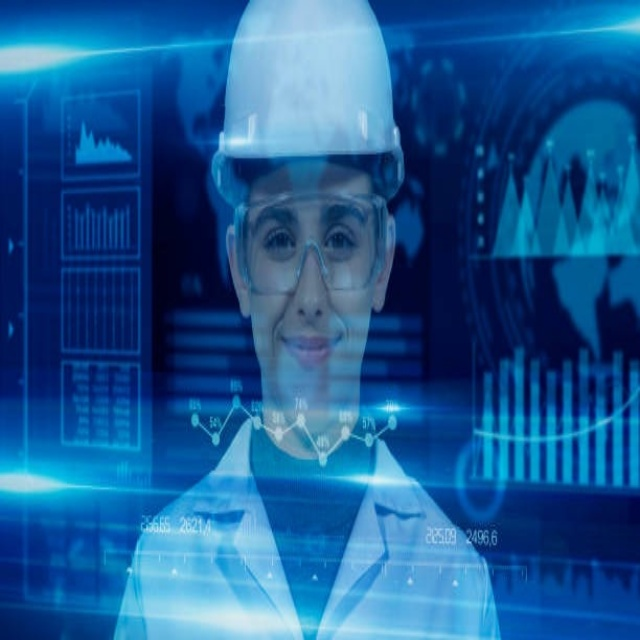Gafas: (228, 188, 389, 305)
Sin_mascara: (276, 318, 350, 389)
